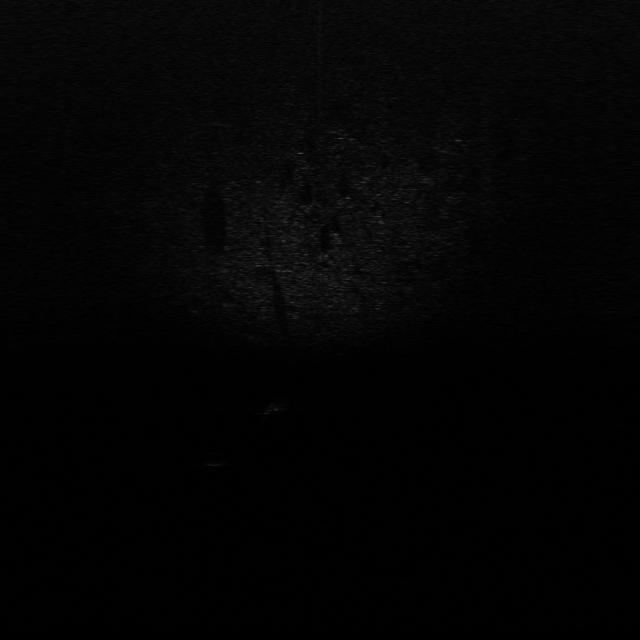ball: (200, 448, 226, 470)
human body: (254, 396, 290, 422)
